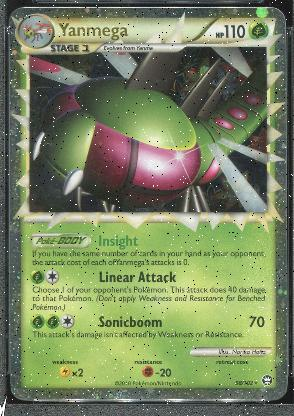Card: (5, 3, 291, 402)
